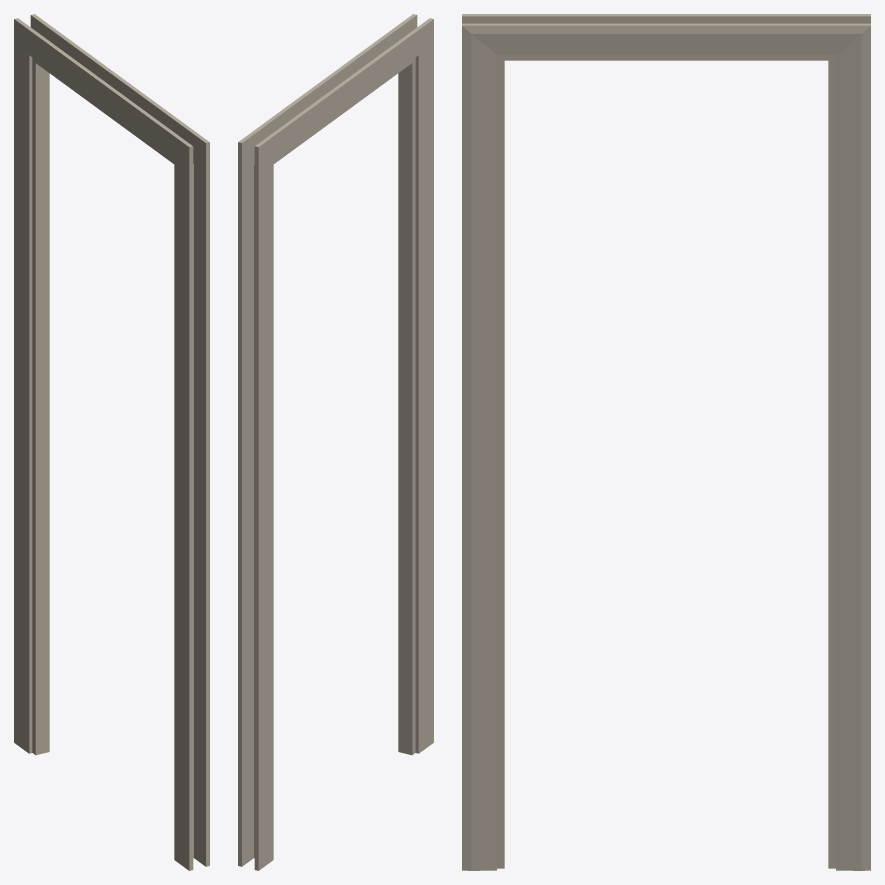
Rendered from 70_ORLEAN_Frmae.glb.
The picture shows the model from 3 angles, left to right: view 1: azimuth 30°, elevation 25°; view 2: azimuth 150°, elevation 25°; view 3: azimuth 270°, elevation 25°; orthographic projection. The views are drawn at different scales.
Visible parts, largest first — view 1: 70_ORLEAN_Frmae; view 2: 70_ORLEAN_Frmae; view 3: 70_ORLEAN_Frmae.
Part boxes in pixels (bbox=[...]): 70_ORLEAN_Frmae: bbox=[14, 14, 209, 870]; 70_ORLEAN_Frmae: bbox=[238, 14, 433, 870]; 70_ORLEAN_Frmae: bbox=[462, 14, 870, 870].
Size of the model in its own units: 0.072 by 2.32 by 1.02.
